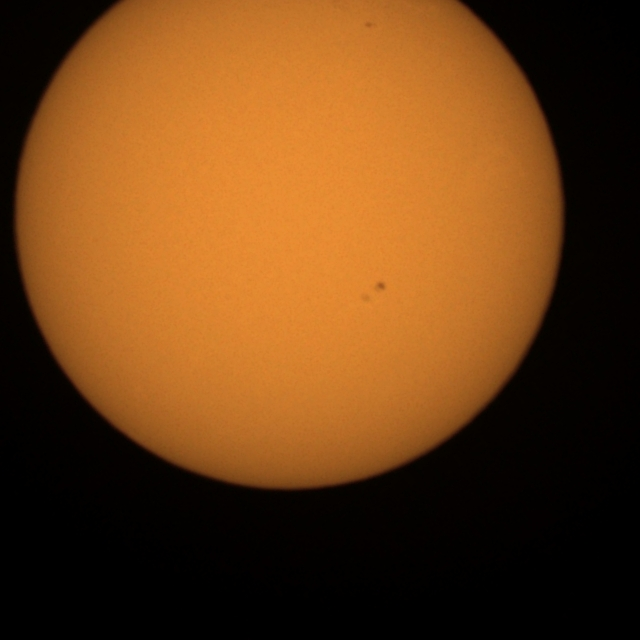sunspot: (360, 280, 388, 304), (372, 280, 388, 294), (363, 20, 376, 30)
